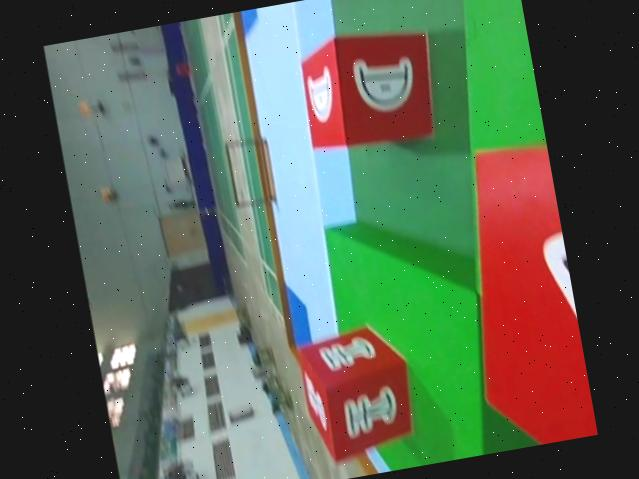R2 Real: (291, 18, 447, 159), (289, 319, 422, 468)
